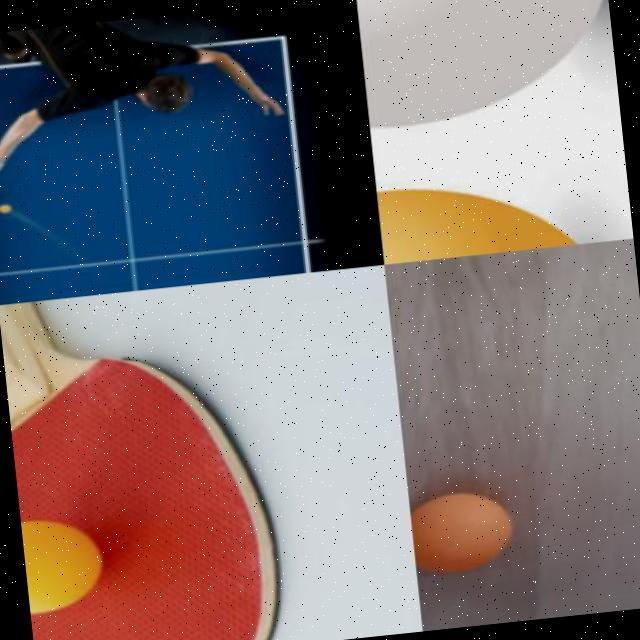ping-pong-ball: (408, 488, 514, 578), (20, 512, 106, 616), (0, 204, 7, 214)
